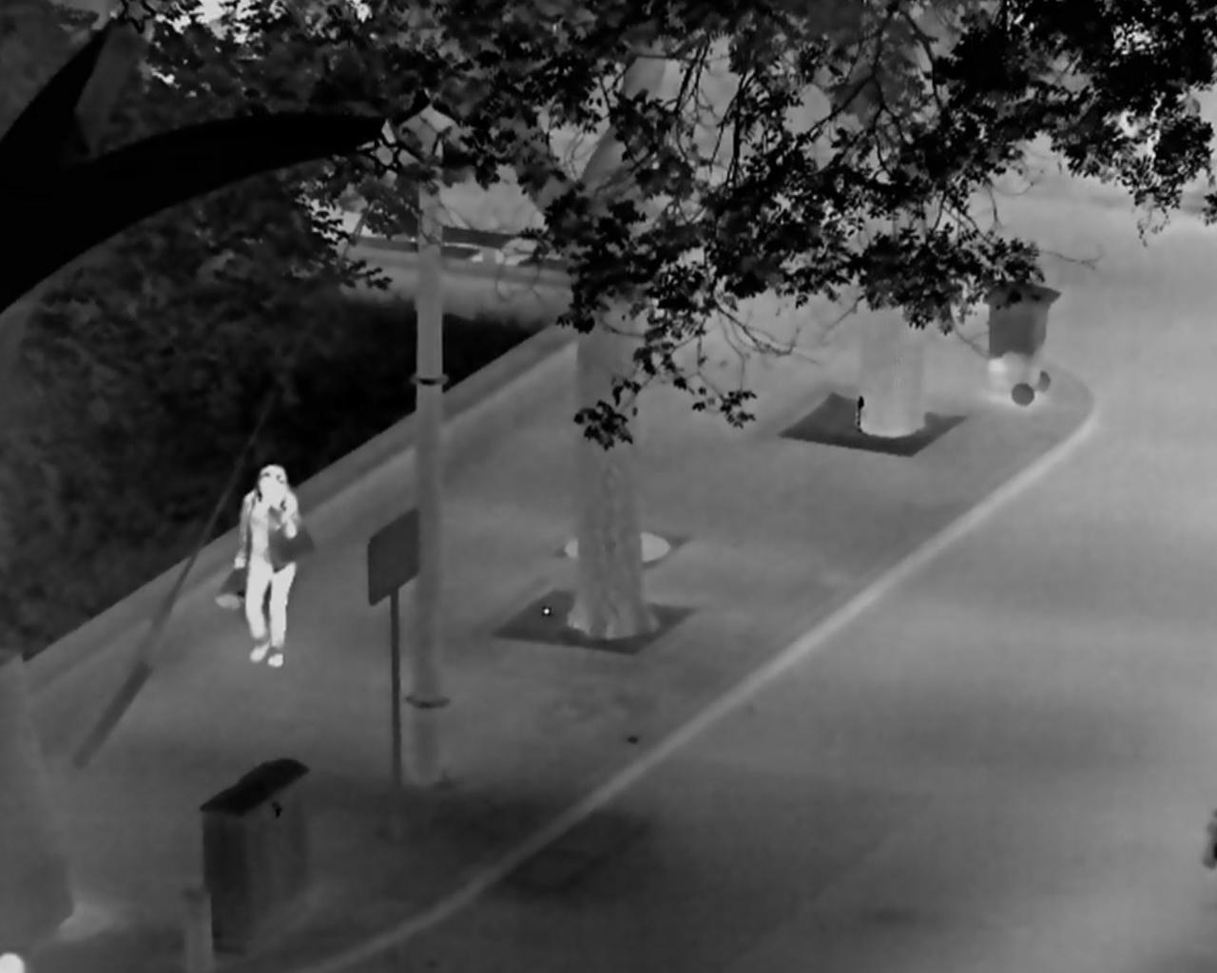person: (233, 466, 302, 667)
